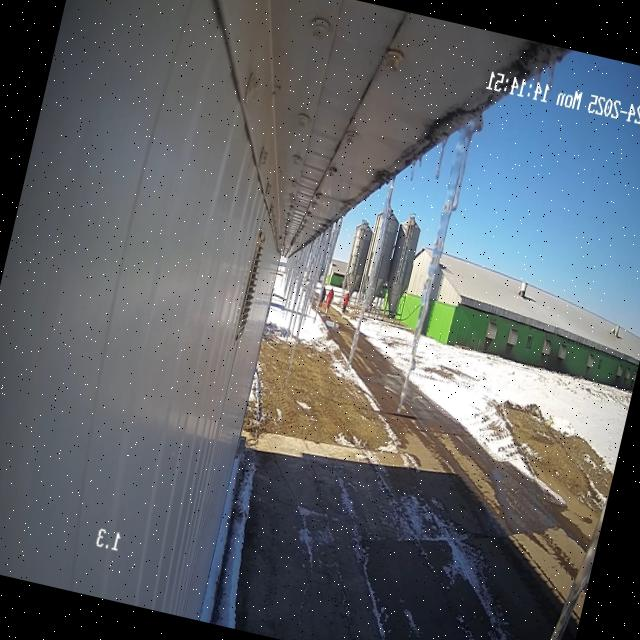Red uniform: (317, 284, 326, 312), (325, 288, 333, 314), (342, 290, 350, 313)
